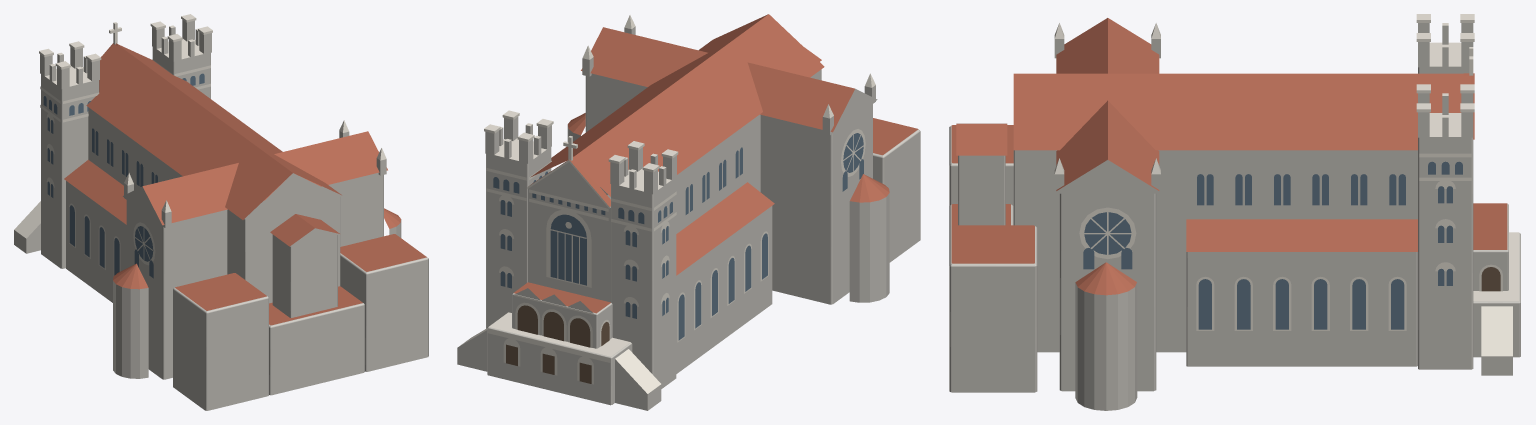
Rendered from nyc-perpetual-help-basilica.glb.
3 views of the same model, side by side, from view 1: azimuth 30°, elevation 25°; view 2: azimuth 150°, elevation 25°; view 3: azimuth 270°, elevation 25° (orthographic). The views are drawn at different scales.
Visible parts, largest first — view 1: Basilica of Our Lady of Perpetual Help; view 2: Basilica of Our Lady of Perpetual Help; view 3: Basilica of Our Lady of Perpetual Help.
Boxes of the visible parts, x1,y1,x2,y2 form: Basilica of Our Lady of Perpetual Help: [14, 14, 428, 410]; Basilica of Our Lady of Perpetual Help: [457, 14, 920, 410]; Basilica of Our Lady of Perpetual Help: [949, 14, 1520, 410].
Bounding box in the file's own units: 53 × 38.2 × 72.2.
